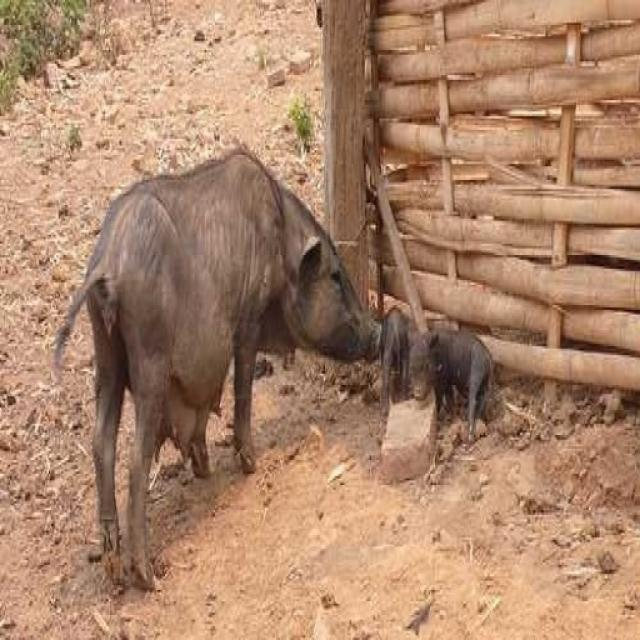pig: (40, 109, 386, 574)
